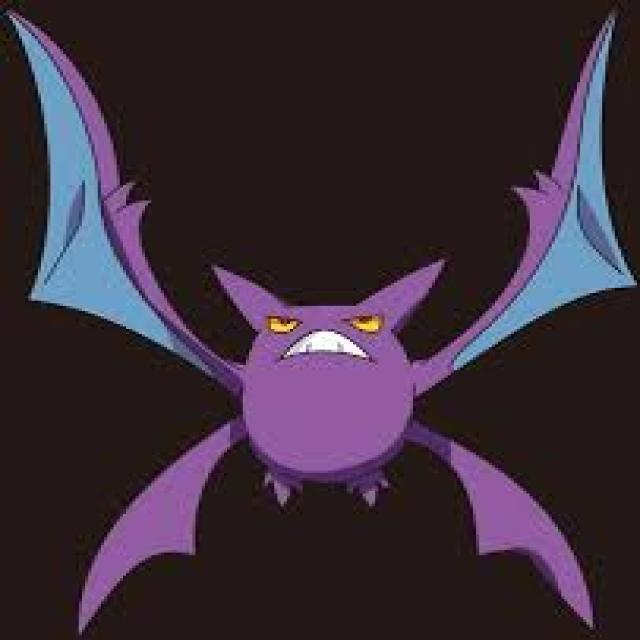crobat: (0, 2, 640, 635)
